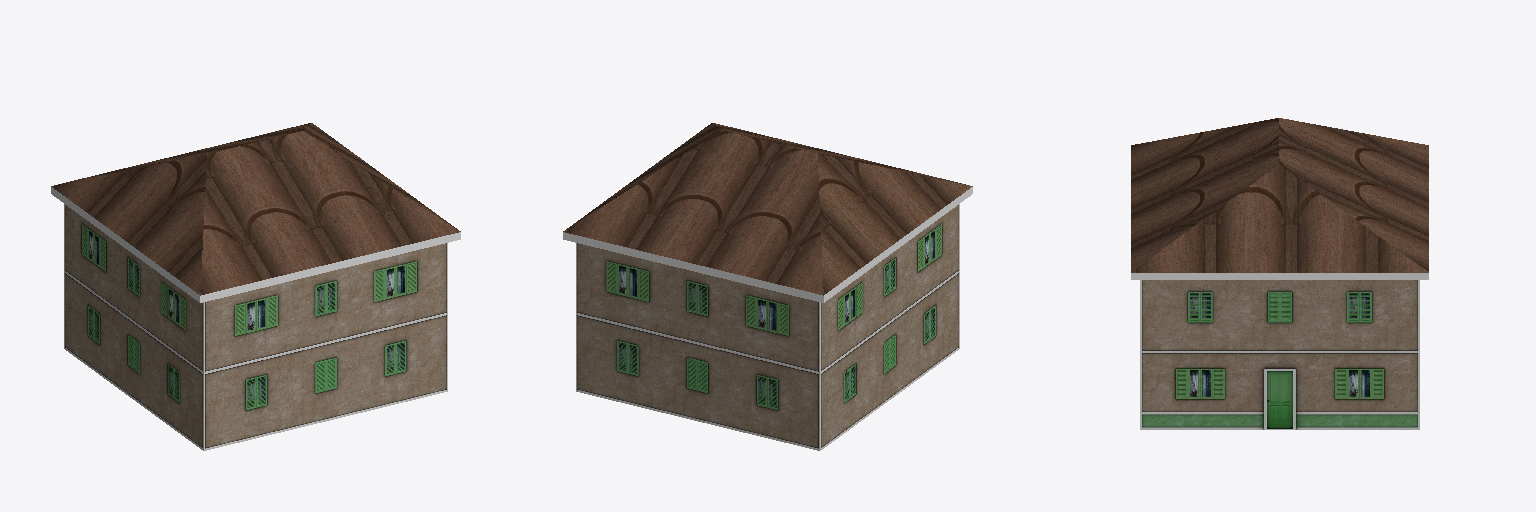
3 renders of one model, left to right at view 1: azimuth 30°, elevation 25°; view 2: azimuth 150°, elevation 25°; view 3: azimuth 270°, elevation 25°, orthographic.
Parts seen in each view (by area): view 1: TriangleBlock; view 2: TriangleBlock; view 3: TriangleBlock.
Boxes of the visible parts, x1,y1,x2,y2 form: TriangleBlock: [51, 123, 460, 450]; TriangleBlock: [563, 123, 972, 450]; TriangleBlock: [1131, 118, 1428, 429].
Size of the model in its own units: 10.76 by 9 by 10.67.
3 materials, 2 textured.